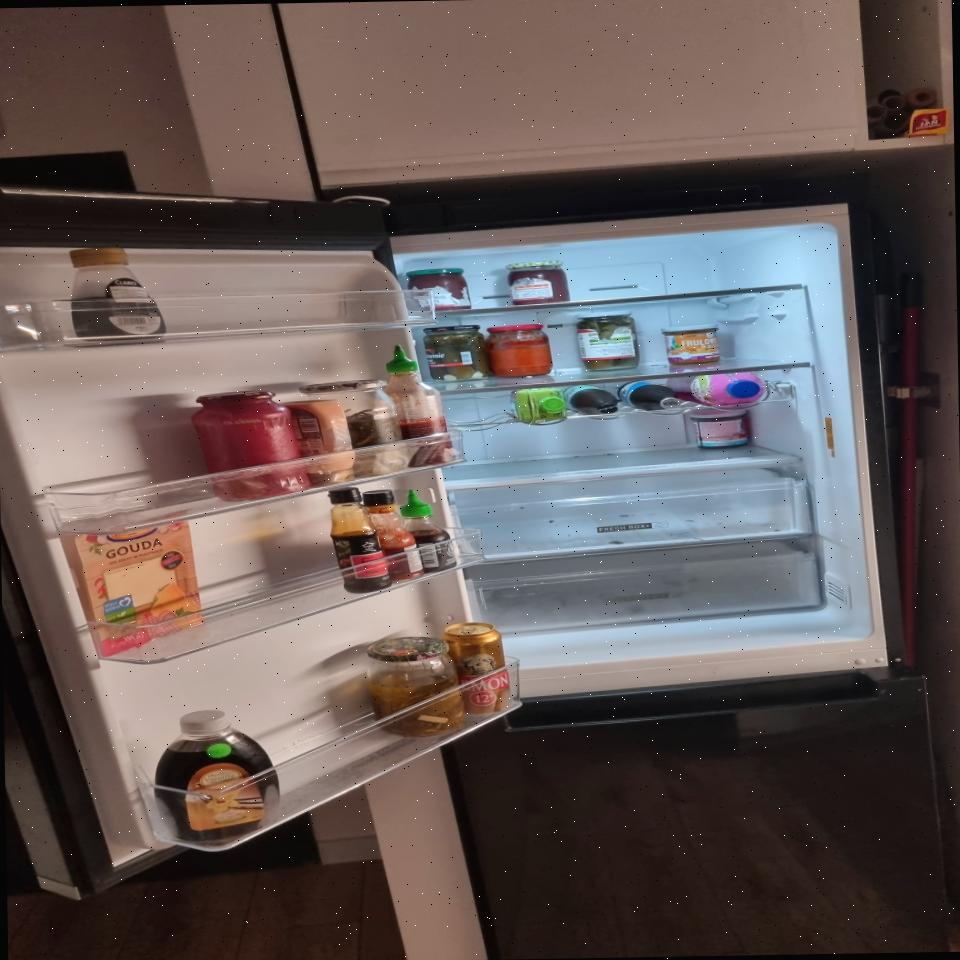Queso: (71, 510, 205, 657)
